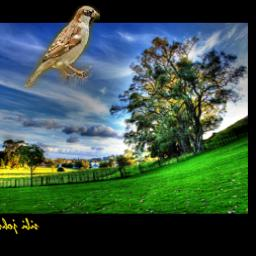Sparrow: (25, 6, 100, 88)
